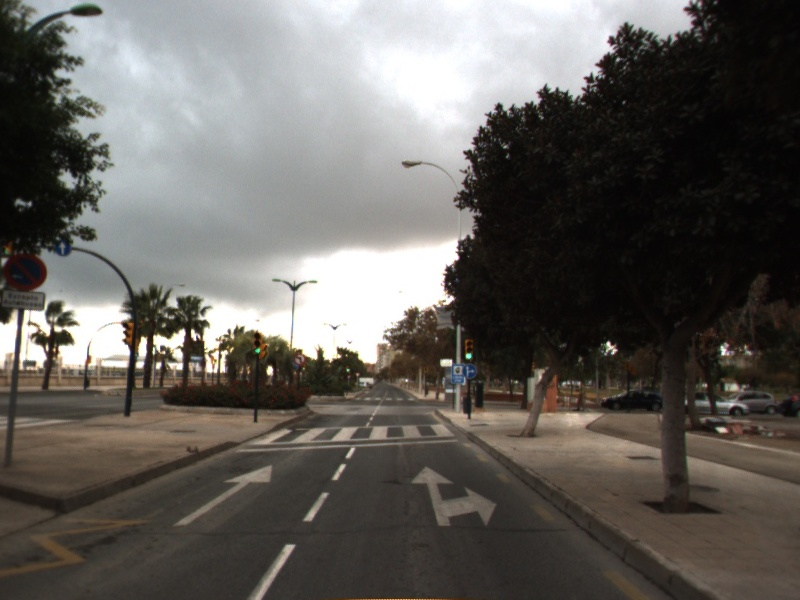STRAIGHT: (172, 461, 275, 528)
STRAIGHT_RIGHT: (409, 464, 500, 529)
